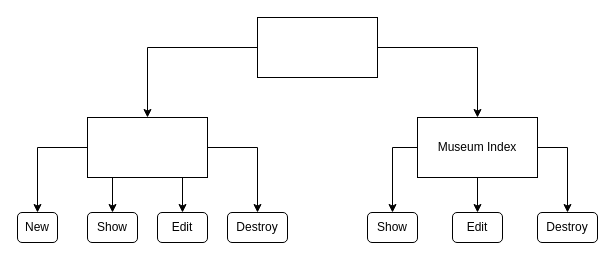
Some shapes in this 615 by 260 pixel diagram are drawn without their labels. Each missing label, with the centre of its shape:
Painting Index: the point at 147,147
Welcome Page: the point at 317,47
